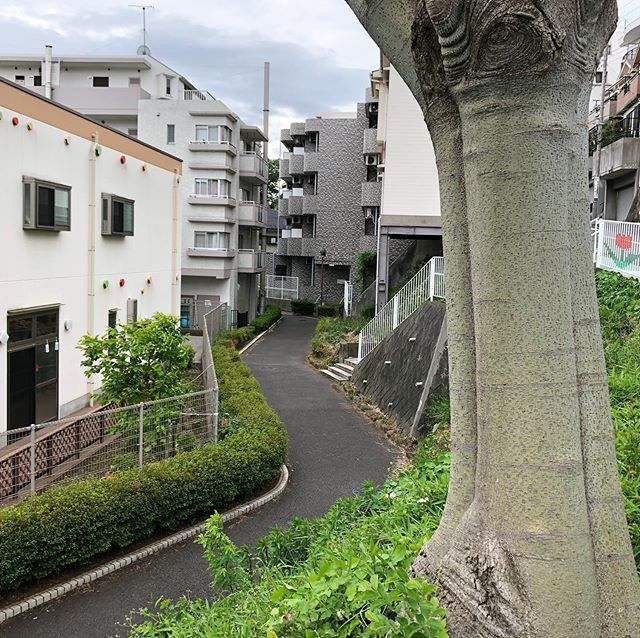building: (1, 91, 182, 482), (142, 66, 268, 309), (263, 114, 377, 307)
sky: (154, 1, 383, 116)
street: (20, 322, 373, 638)
tree: (349, 3, 640, 638), (75, 315, 192, 472)
